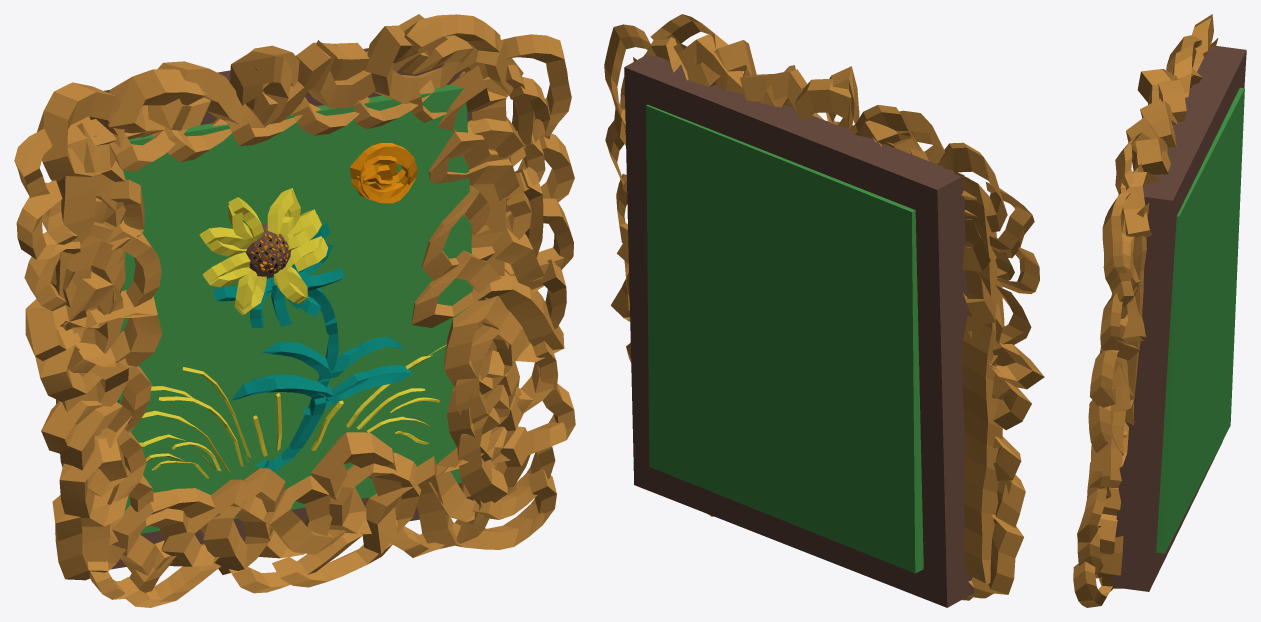
The picture shows the model from 3 angles, left to right: view 1: azimuth 30°, elevation 25°; view 2: azimuth 150°, elevation 25°; view 3: azimuth 270°, elevation 25°; orthographic projection. The views are drawn at different scales.
Visible parts, largest first — view 1: node_MeshObject308889600-PolyPaper20, node_MeshObject1577237504-PolyPaper13; view 2: node_MeshObject308889600-PolyPaper20, node_MeshObject1577237504-PolyPaper13; view 3: node_MeshObject308889600-PolyPaper20, node_MeshObject1577237504-PolyPaper13.
Boxes of the visible parts, x1,y1,x2,y2 form: node_MeshObject308889600-PolyPaper20: (25,14,564,580); node_MeshObject1577237504-PolyPaper13: (14,14,575,607); node_MeshObject308889600-PolyPaper20: (610,34,1044,607); node_MeshObject1577237504-PolyPaper13: (604,14,1039,600); node_MeshObject308889600-PolyPaper20: (1091,14,1246,591); node_MeshObject1577237504-PolyPaper13: (1073,132,1151,607).
Bounding box in the file's own units: 1.08 × 1.09 × 0.3721.
